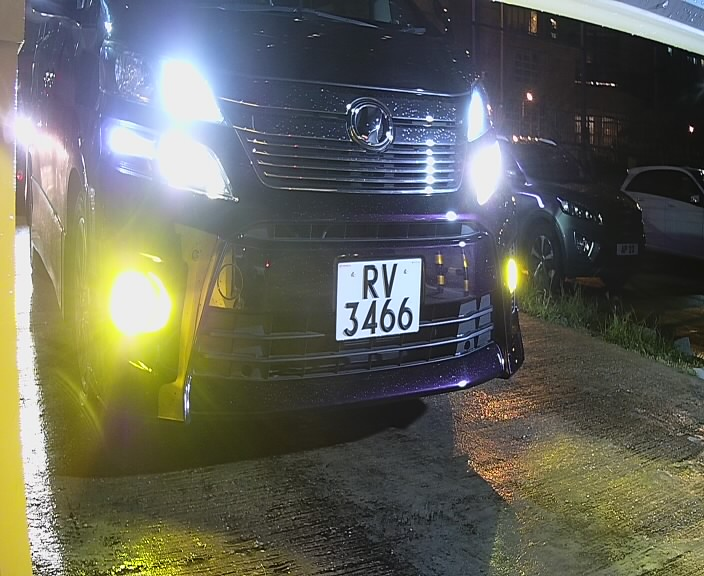Car: (9, 2, 533, 446)
License Plate: (328, 248, 431, 351)
